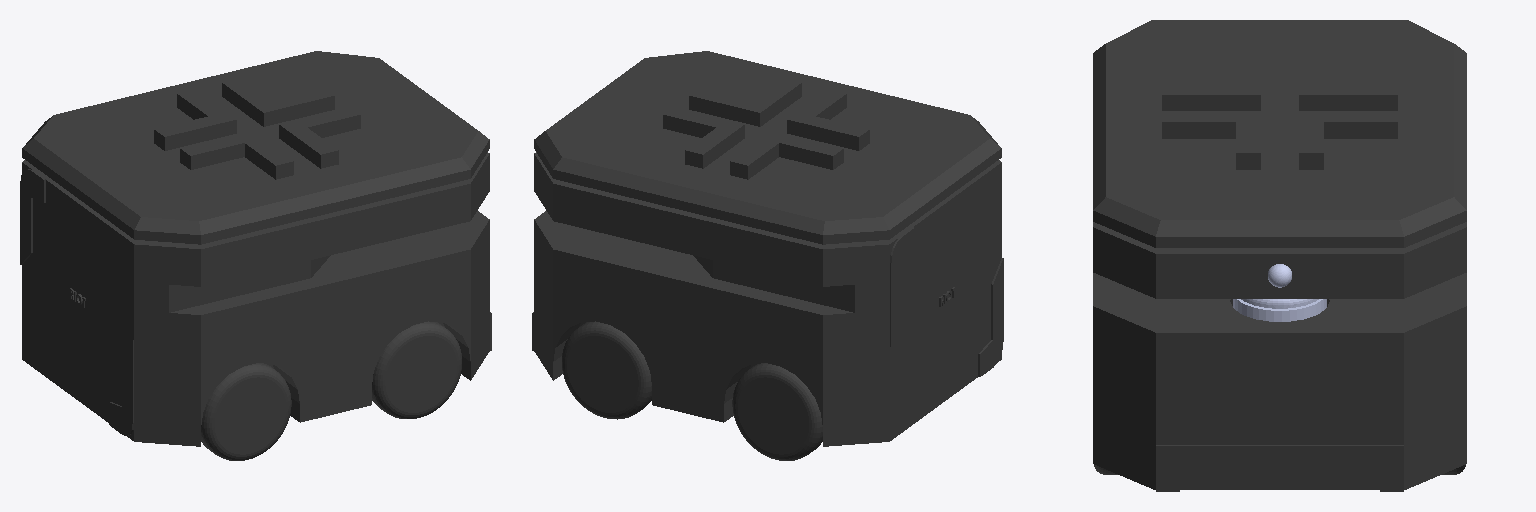
URDF robot description (Riot_V3):
<?xml version="1.0" encoding="utf-8"?>
<!-- This URDF was automatically created by SolidWorks to URDF Exporter! Originally created by [author] ([email redacted]) 
     Commit Version: 1.6.0-4-g7f85cfe  Build Version: 1.6.7995.38578
     For more information, please see http://wiki.ros.org/sw_urdf_exporter -->
<robot
  name="Riot_V3">

  <link name="base_link" />

  <joint name="base_link_to_chassis" type="fixed">
    <parent link="base_link"/>
    <child link="chassis"/>
  </joint>
  
  <link name="chassis">

    <inertial>
      <origin
        xyz="-0.00731924788401569 -0.000495519981526249 0.148055312329441"
        rpy="0 0 0" />
      <mass
        value="23.8011559593027" />
      <inertia
        ixx="0.263039373455415"
        ixy="-9.77830112583802E-09"
        ixz="0.00557641591684923"
        iyy="0.404190875888997"
        iyz="-5.8000914660657E-05"
        izz="0.446699879113429" />
    </inertial>
    <visual>
      <origin
        xyz="0 0 0"
        rpy="0 0 0" />
      <geometry>
        <mesh
          filename="package://Riot_V3/meshes/base_link.STL" />
      </geometry>
      <material
        name="">
        <color
          rgba="0.298039215686275 0.298039215686275 0.298039215686275 1" />
      </material>
    </visual>
    <collision>
      <origin
        xyz="0 0 0"
        rpy="0 0 0" />
      <geometry>
        <mesh
          filename="package://Riot_V3/meshes/base_link.STL" />
      </geometry>
    </collision>
  </link>
  <link
    name="front_left_Link">
    <inertial>
      <origin
        xyz="-2.91433543964104E-16 0.0727451186755974 5.55111512312578E-17"
        rpy="0 0 0" />
      <mass
        value="0.238445952331711" />
      <inertia
        ixx="0.000175182461271135"
        ixy="7.66564817265142E-20"
        ixz="-1.7205356741103E-21"
        iyy="0.000265785034598442"
        iyz="4.06575814682064E-20"
        izz="0.000175182461271135" />
    </inertial>
    <visual>
      <origin
        xyz="0 0 0"
        rpy="0 0 0" />
      <geometry>
        <mesh
          filename="package://Riot_V3/meshes/front_left_Link.STL" />
      </geometry>
      <material
        name="">
        <color
          rgba="0.298039215686275 0.298039215686275 0.298039215686275 1" />
      </material>
    </visual>
    <collision>
      <origin
        xyz="0 0 0"
        rpy="0 0 0" />
      <geometry>
        <mesh
          filename="package://Riot_V3/meshes/front_left_Link.STL" />
      </geometry>
    </collision>
  </link>
  <joint
    name="front_left_Joint"
    type="continuous">
    <origin
      xyz="0.095 0.059124 0.05"
      rpy="0 0 0" />
    <parent
      link="chassis" />
    <child
      link="front_left_Link" />
    <axis
      xyz="0 -1 0" />
  </joint>
  <link
    name="front_right_Link">
    <inertial>
      <origin
        xyz="-5.82867087928207E-16 0.0301635935595795 -1.66533453693773E-16"
        rpy="0 0 0" />
      <mass
        value="0.238445952331711" />
      <inertia
        ixx="0.000175182461271135"
        ixy="6.73391193067169E-20"
        ixz="1.46642578993401E-20"
        iyy="0.000265785034598442"
        iyz="2.96461531539005E-20"
        izz="0.000175182461271135" />
    </inertial>
    <visual>
      <origin
        xyz="0 0 0"
        rpy="0 0 0" />
      <geometry>
        <mesh
          filename="package://Riot_V3/meshes/front_right_Link.STL" />
      </geometry>
      <material
        name="">
        <color
          rgba="0.298039215686275 0.298039215686275 0.298039215686275 1" />
      </material>
    </visual>
    <collision>
      <origin
        xyz="0 0 0"
        rpy="0 0 0" />
      <geometry>
        <mesh
          filename="package://Riot_V3/meshes/front_right_Link.STL" />
      </geometry>
    </collision>
  </link>
  <joint
    name="front_right_Joint"
    type="continuous">
    <origin
      xyz="0.095 -0.16302 0.05"
      rpy="0 0 0" />
    <parent
      link="chassis" />
    <child
      link="front_right_Link" />
    <axis
      xyz="0 1 0" />
  </joint>
  <link
    name="back_left_Link">
    <inertial>
      <origin
        xyz="-7.21644966006352E-16 0.0740350172559949 2.77555756156289E-16"
        rpy="0 0 0" />
      <mass
        value="0.238445952331711" />
      <inertia
        ixx="0.000175182461271135"
        ixy="6.09863722023096E-20"
        ixz="-2.75021010061631E-20"
        iyy="0.000265785034598442"
        iyz="4.2351647362715E-20"
        izz="0.000175182461271135" />
    </inertial>
    <visual>
      <origin
        xyz="0 0 0"
        rpy="0 0 0" />
      <geometry>
        <mesh
          filename="package://Riot_V3/meshes/back_left_Link.STL" />
      </geometry>
      <material
        name="">
        <color
          rgba="0.298039215686275 0.298039215686275 0.298039215686275 1" />
      </material>
    </visual>
    <collision>
      <origin
        xyz="0 0 0"
        rpy="0 0 0" />
      <geometry>
        <mesh
          filename="package://Riot_V3/meshes/back_left_Link.STL" />
      </geometry>
    </collision>
  </link>
  <joint
    name="back_left_Joint"
    type="continuous">
    <origin
      xyz="-0.095 0.057834 0.05"
      rpy="0 0 0" />
    <parent
      link="chassis" />
    <child
      link="back_left_Link" />
    <axis
      xyz="0 -1 0" />
  </joint>
  <link
    name="back_right_Link">
    <inertial>
      <origin
        xyz="0 0.0293283726076817 1.11022302462516E-16"
        rpy="0 0 0" />
      <mass
        value="0.238445952331711" />
      <inertia
        ixx="0.000175182461271135"
        ixy="6.39509875176997E-20"
        ixz="-2.8640301529036E-20"
        iyy="0.000265785034598442"
        iyz="3.55753837846806E-20"
        izz="0.000175182461271135" />
    </inertial>
    <visual>
      <origin
        xyz="0 0 0"
        rpy="0 0 0" />
      <geometry>
        <mesh
          filename="package://Riot_V3/meshes/back_right_Link.STL" />
      </geometry>
      <material
        name="">
        <color
          rgba="0.298039215686275 0.298039215686275 0.298039215686275 1" />
      </material>
    </visual>
    <collision>
      <origin
        xyz="0 0 0"
        rpy="0 0 0" />
      <geometry>
        <mesh
          filename="package://Riot_V3/meshes/back_right_Link.STL" />
      </geometry>
    </collision>
  </link>
  <joint
    name="back_right_Joint"
    type="continuous">
    <origin
      xyz="-0.095 -0.16219 0.05"
      rpy="0 0 0" />
    <parent
      link="chassis" />
    <child
      link="back_right_Link" />
    <axis
      xyz="0 1 0" />
  </joint>
  <link
    name="camera">
    <inertial>
      <origin
        xyz="0.00836854131407994 0 -5.55111512312578E-17"
        rpy="0 0 0" />
      <mass
        value="0.00523598775598299" />
      <inertia
        ixx="2.40855436775218E-07"
        ixy="4.96308367531817E-24"
        ixz="1.65436122510606E-24"
        iyy="2.55254403104171E-07"
        iyz="1.65436122510606E-24"
        izz="2.55254403104171E-07" />
    </inertial>
    <visual>
      <origin
        xyz="0 0 0"
        rpy="0 0 0" />
      <geometry>
        <mesh
          filename="package://Riot_V3/meshes/camera.STL" />
      </geometry>
      <material
        name="">
        <color
          rgba="0.792156862745098 0.819607843137255 0.933333333333333 1" />
      </material>
    </visual>
    <collision>
      <origin
        xyz="0 0 0"
        rpy="0 0 0" />
      <geometry>
        <mesh
          filename="package://Riot_V3/meshes/camera.STL" />
      </geometry>
    </collision>
  </link>
  <joint
    name="camera_Joint"
    type="fixed">
    <origin
      xyz="0.19013 -0.00049552 0.22089"
      rpy="0 0 0" />
    <parent
      link="chassis" />
    <child
      link="camera" />
    <axis
      xyz="1 0 0" />
  </joint>
  <link
    name="hokuyo">
    <inertial>
      <origin
        xyz="1.38777878078145E-17 5.55111512312578E-17 0.0193003055082826"
        rpy="0 0 0" />
      <mass
        value="0.171029210078734" />
      <inertia
        ixx="8.16653772390185E-05"
        ixy="4.2351647362715E-22"
        ixz="1.4849546356552E-20"
        iyy="8.16653772390186E-05"
        iyz="2.5410988417629E-21"
        izz="0.00011937610828968" />
    </inertial>
    <visual>
      <origin
        xyz="0 0 0"
        rpy="0 0 0" />
      <geometry>
        <mesh
          filename="package://Riot_V3/meshes/hokuyo.STL" />
      </geometry>
      <material
        name="">
        <color
          rgba="0.792156862745098 0.819607843137255 0.933333333333333 1" />
      </material>
    </visual>
    <collision>
      <origin
        xyz="0 0 0"
        rpy="0 0 0" />
      <geometry>
        <mesh
          filename="package://Riot_V3/meshes/hokuyo.STL" />
      </geometry>
    </collision>
  </link>
  <joint
    name="hokuyo_joint"
    type="fixed">
    <origin
      xyz="0.14 -0.00049552 0.14987"
      rpy="0 0 0" />
    <parent
      link="chassis" />
    <child
      link="hokuyo" />
    <axis
      xyz="0 0 1" />
  </joint>
</robot>

--- Facts derived from the render (not from the file) ---
The picture shows the robot from 3 angles, left to right: view 1: azimuth 30°, elevation 25°; view 2: azimuth 150°, elevation 25°; view 3: azimuth 270°, elevation 25°; orthographic projection.
Robot: Riot_V3 — 8 links, 7 joints (4 continuous, 3 fixed); root link base_link; default pose: all joints at 0.
Visible links, largest first — view 1: chassis, back_right_Link, front_right_Link; view 2: chassis, back_left_Link, front_left_Link; view 3: chassis, hokuyo.
Boxes of the visible links, x1,y1,x2,y2 form: chassis: [20, 51, 491, 446]; back_right_Link: [201, 363, 291, 460]; front_right_Link: [372, 321, 461, 418]; chassis: [532, 51, 1003, 446]; back_left_Link: [732, 363, 822, 460]; front_left_Link: [562, 321, 651, 419]; chassis: [1093, 20, 1466, 491]; hokuyo: [1233, 299, 1326, 321].
Bounding box of the posed robot: 0.412 × 0.3 × 0.28 m (x, y, z).
Meshes: 7 distinct files referenced, 7 mesh visuals loaded (7 binary STL).